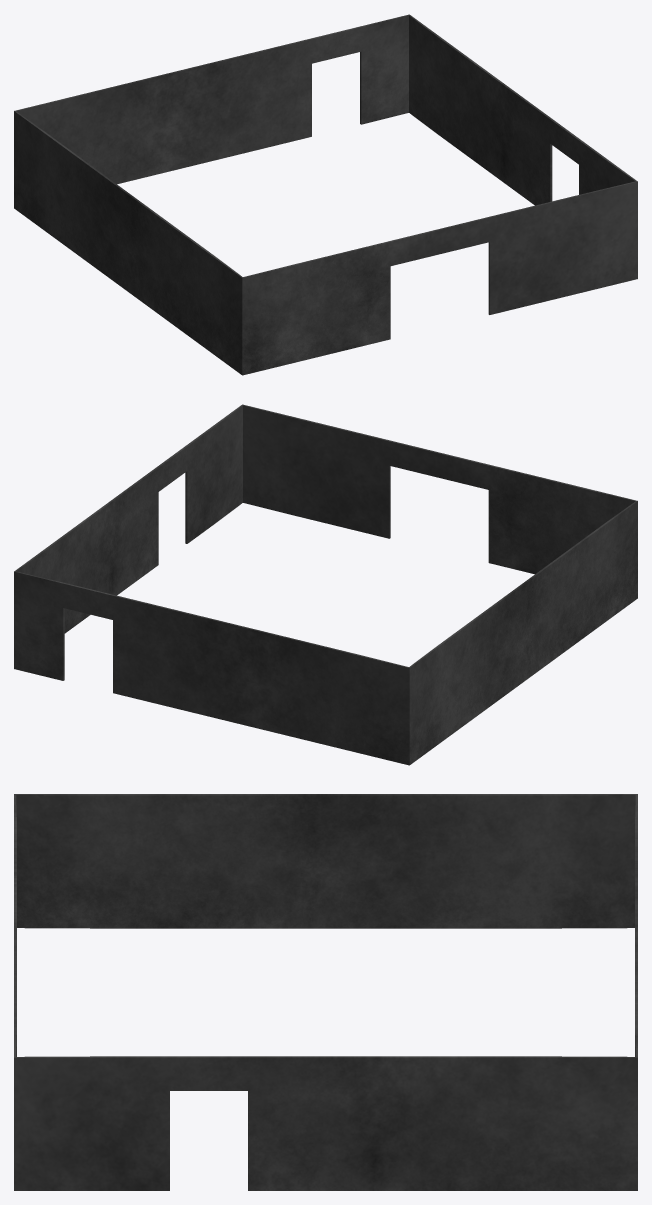
Rendered from lvl1-main-area.fbx.
3 views of the same model, one above another, from view 1: azimuth 30°, elevation 25°; view 2: azimuth 150°, elevation 25°; view 3: azimuth 270°, elevation 25° (orthographic). The views are drawn at different scales.
Visible parts, largest first — view 1: Cube; view 2: Cube; view 3: Cube.
Part boxes in pixels (x1,y1,x2,y2): Cube: [14, 14, 637, 375]; Cube: [14, 404, 637, 765]; Cube: [14, 794, 637, 1190].
Bounding box in the file's own units: 200 × 47.07 × 200.
